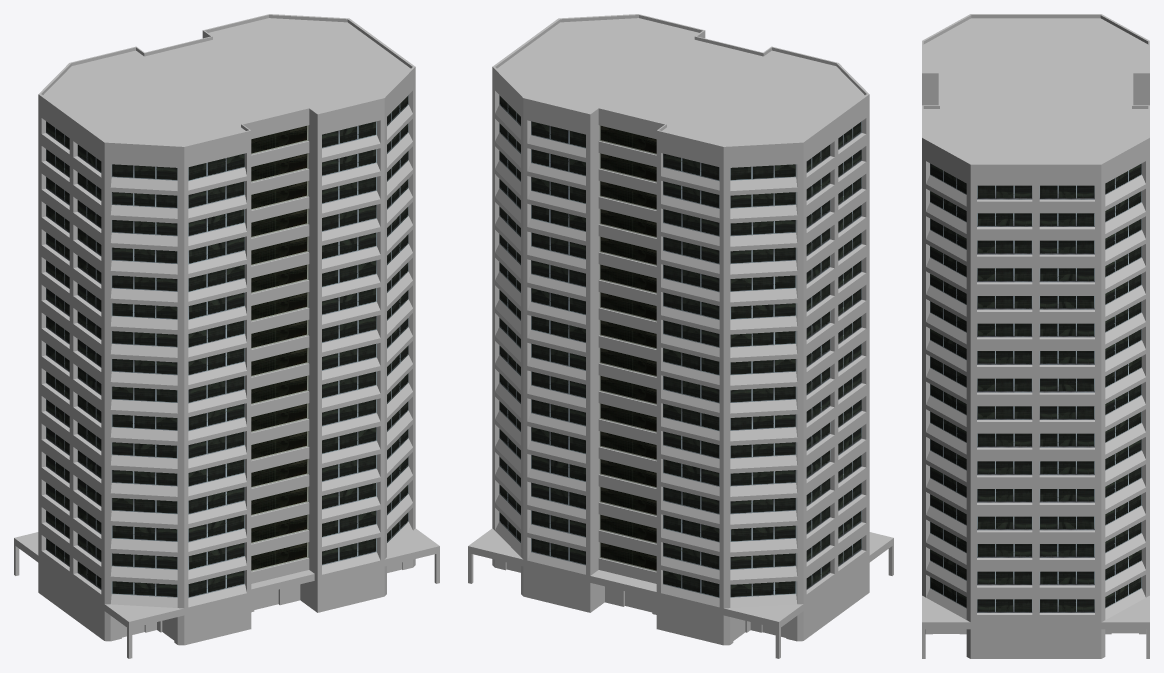
3 renders of one model, left to right at view 1: azimuth 30°, elevation 25°; view 2: azimuth 150°, elevation 25°; view 3: azimuth 270°, elevation 25°, orthographic.
Visible parts, largest first — view 1: BC-001; view 2: BC-001; view 3: BC-001.
Boxes of the visible parts, left/top/right/bottom form: BC-001: left=14, top=14, right=439, bottom=658; BC-001: left=468, top=14, right=893, bottom=658; BC-001: left=922, top=14, right=1149, bottom=658.
Size of what is drawn, in the model's own units: 35.15 by 53.84 by 22.49.
